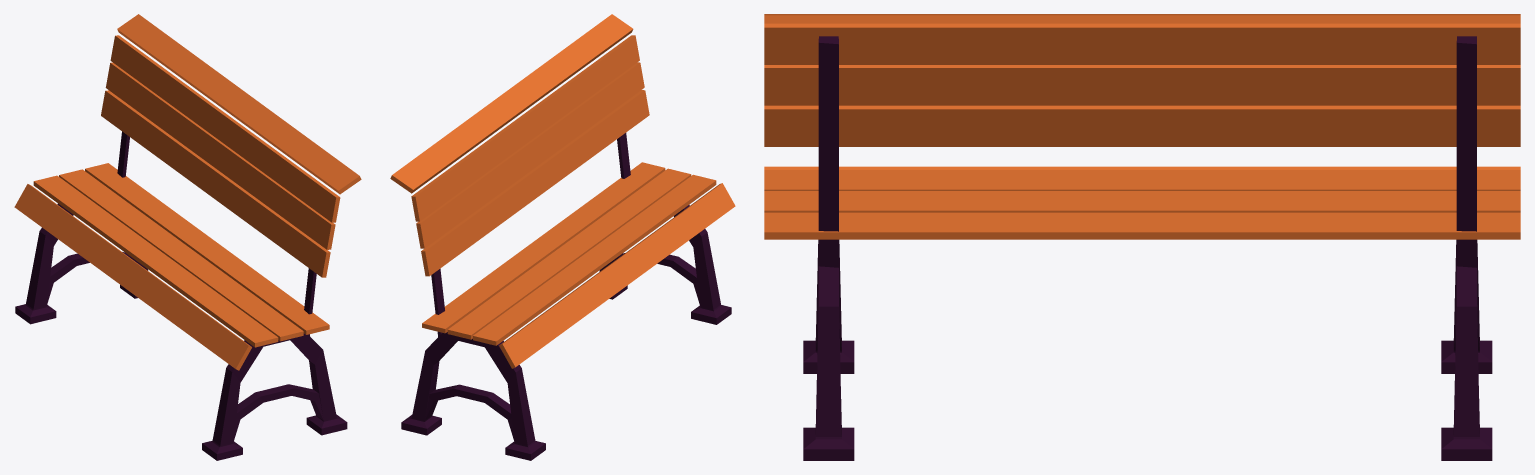
File: LAVKA.fbx
3 renders of one model, left to right at view 1: azimuth 30°, elevation 25°; view 2: azimuth 150°, elevation 25°; view 3: azimuth 270°, elevation 25°, orthographic. The views are drawn at different scales.
Visible parts, largest first — view 1: Cube.002, Cube; view 2: Cube.002, Cube; view 3: Cube.002, Cube.
Boxes of the visible parts, x1,y1,x2,y2 form: Cube.002: (14, 14, 361, 370); Cube: (15, 131, 347, 460); Cube.002: (390, 14, 735, 368); Cube: (401, 133, 731, 460); Cube.002: (764, 14, 1520, 239); Cube: (803, 36, 1492, 460).
Size of the model in its own units: 282 by 529 by 812.
